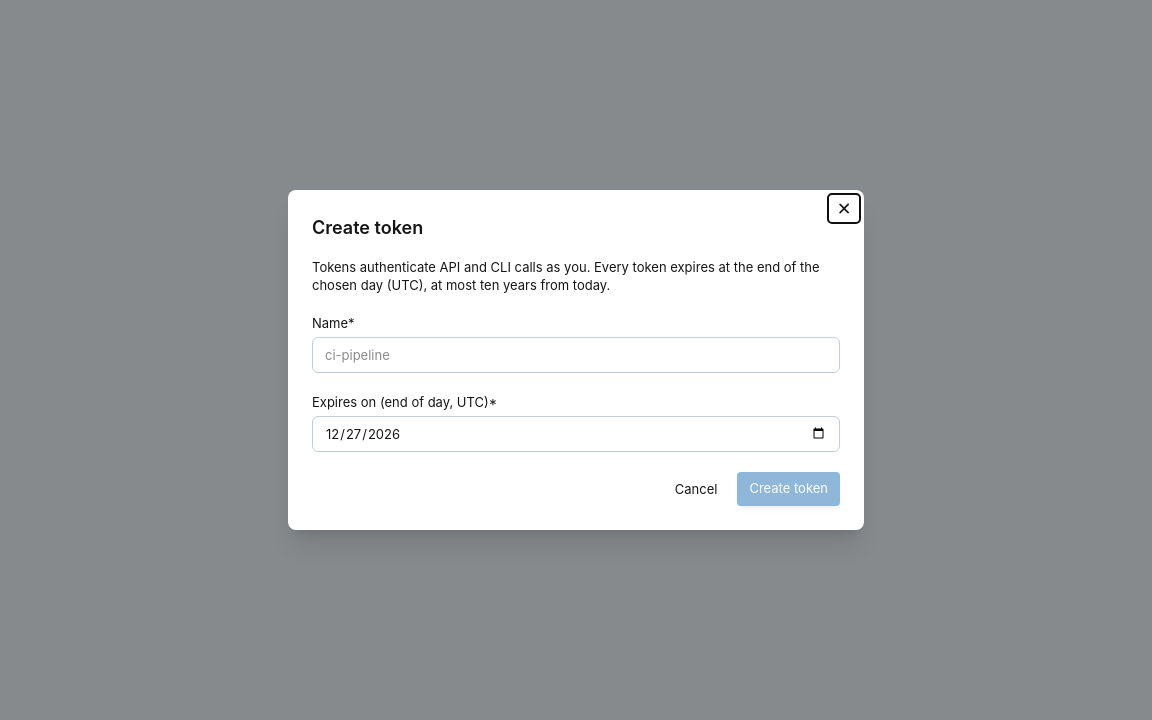
Scenario: CreateUserTokenModal › confirms a successful copy
Type "ci" into the field labelled "Name*".
click(576, 355); type("ci")  # box x1=312 y1=337 x2=840 y2=373
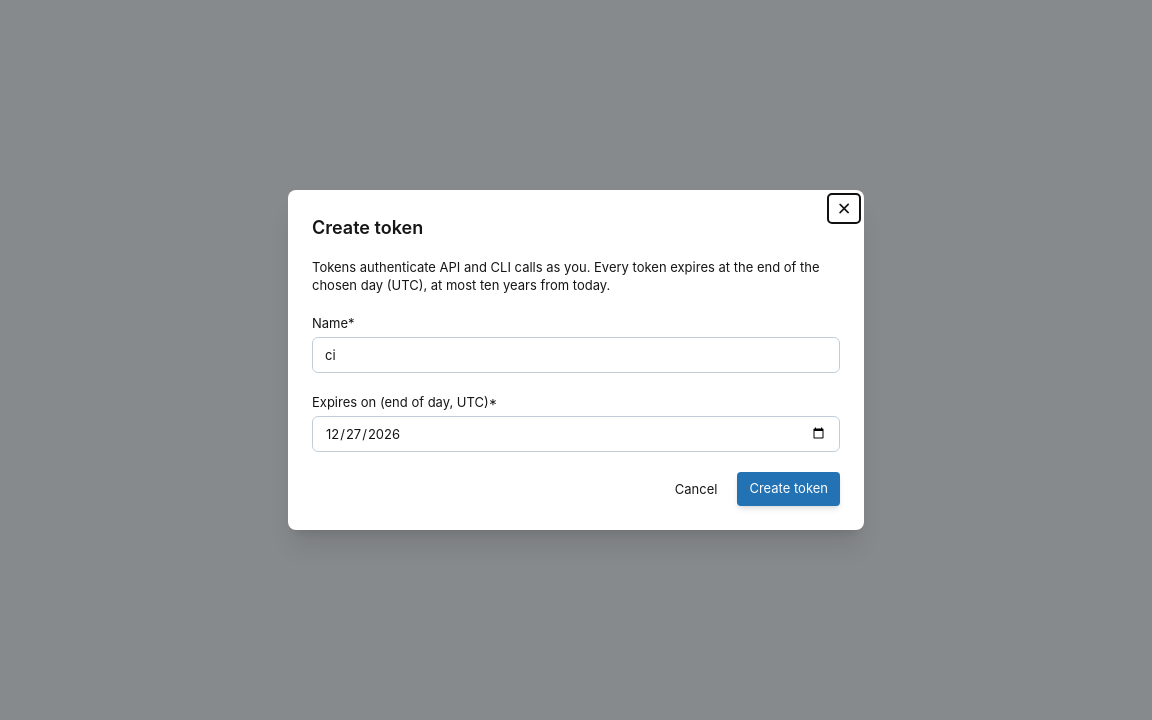
Type "2026-10-31" into the date field labelled "Expires on (end of day, UTC)*".
click(576, 434); type("2026-10-31")  # box x1=312 y1=416 x2=840 y2=452
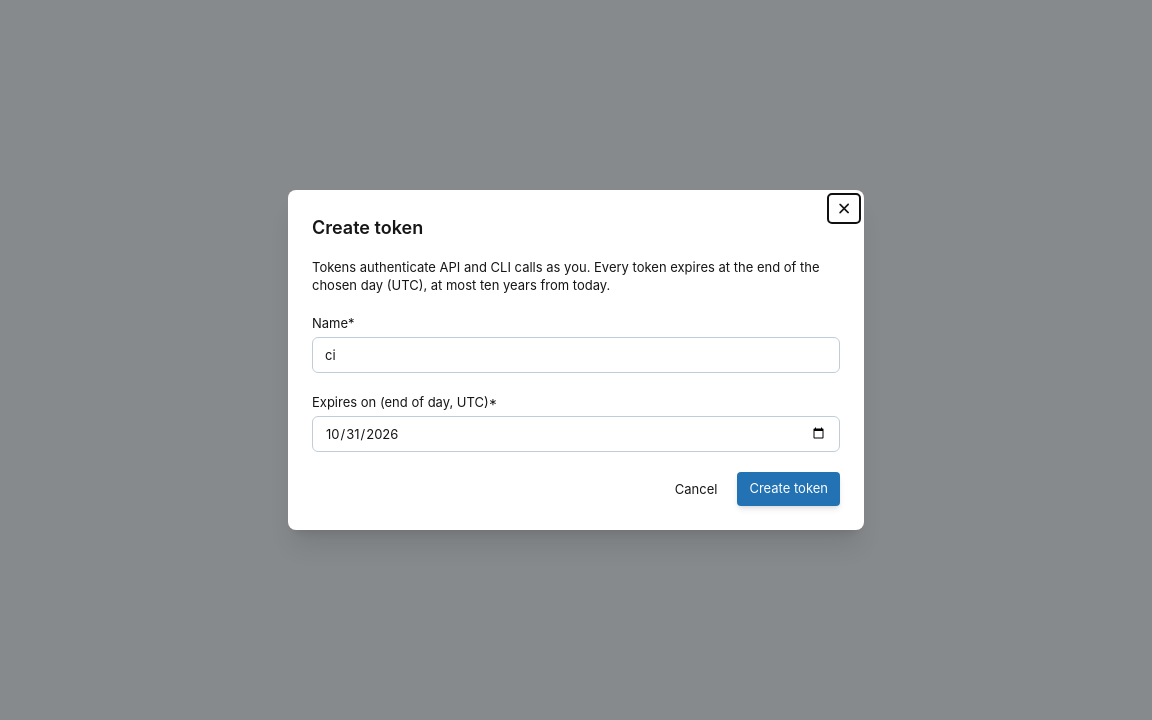
Click the button "Create token".
click(789, 489)  # box x1=737 y1=472 x2=840 y2=506
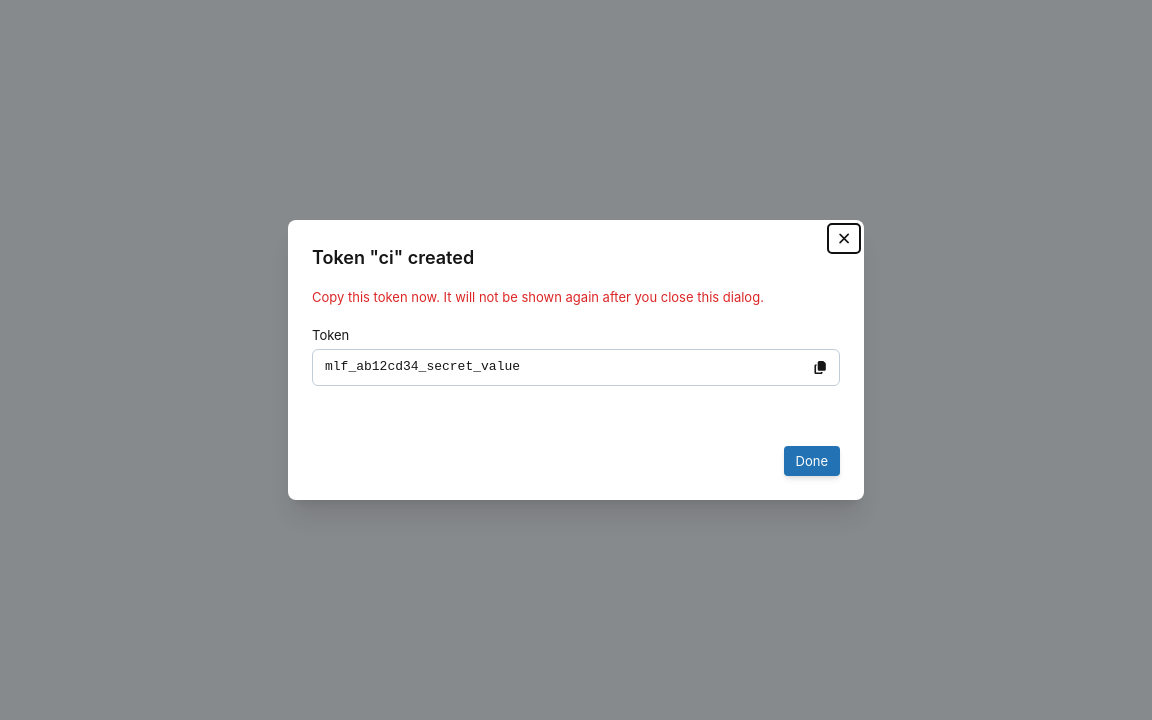
Click the button named "Copy token".
click(820, 367)  # box x1=804 y1=353 x2=836 y2=382
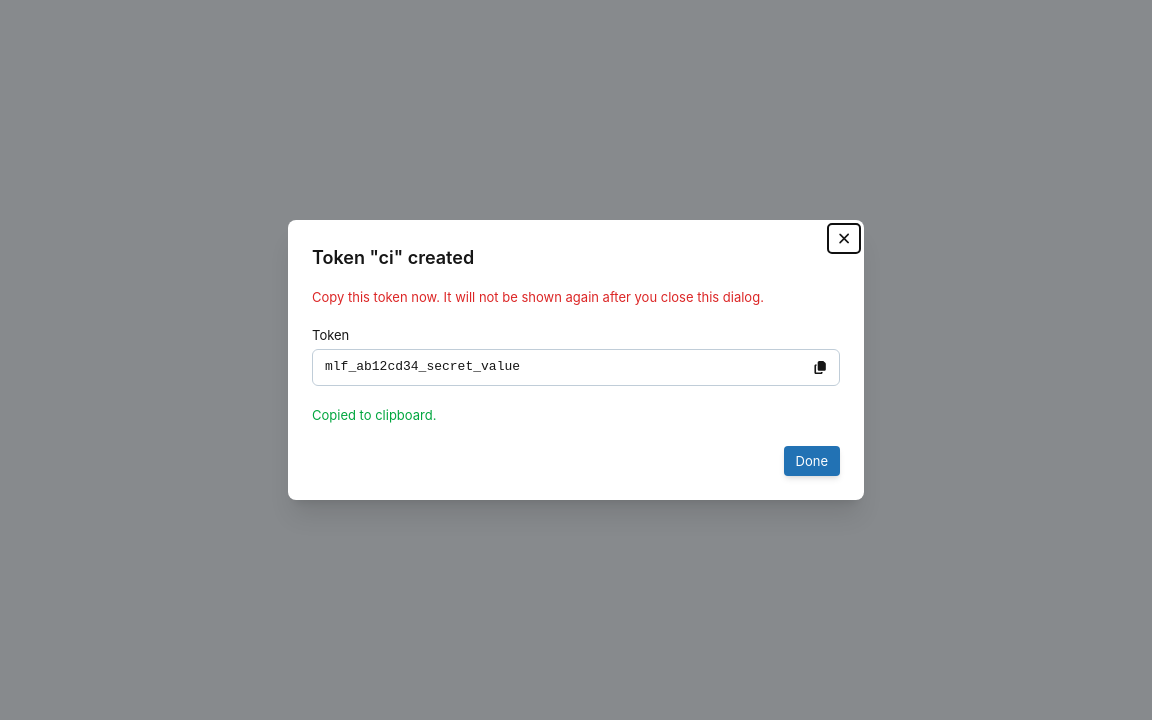
Result: the text "Copied to clipboard." is shown at x1=312 y1=407 x2=436 y2=423
